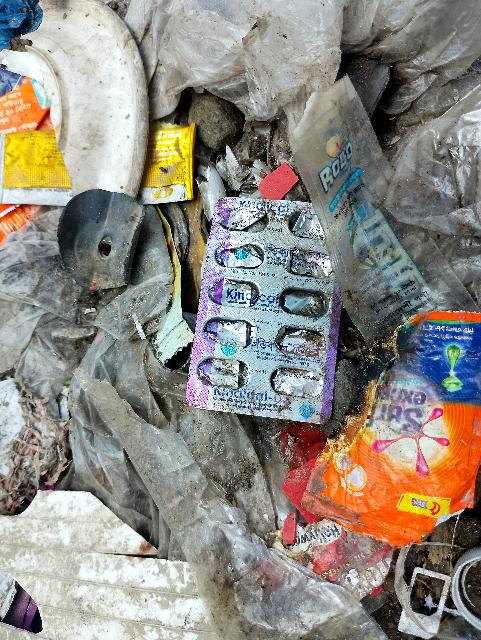medicine: (195, 192, 345, 414)
